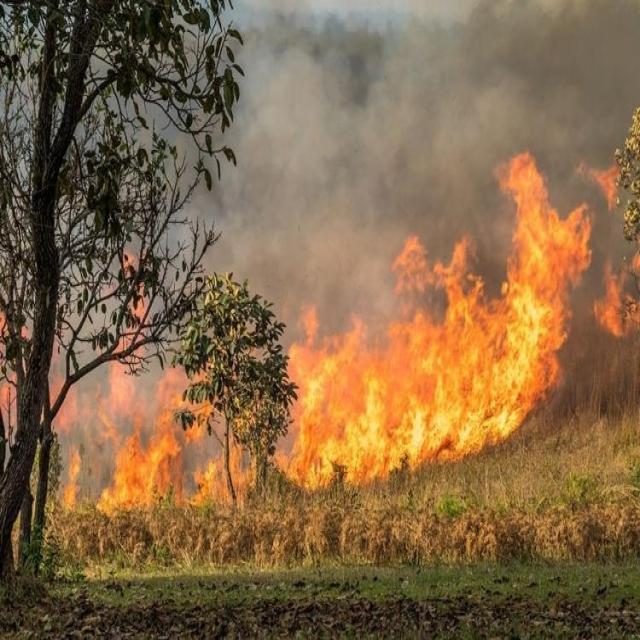Fire: (294, 140, 612, 519), (40, 352, 300, 520)
Smoke: (246, 6, 640, 318)
